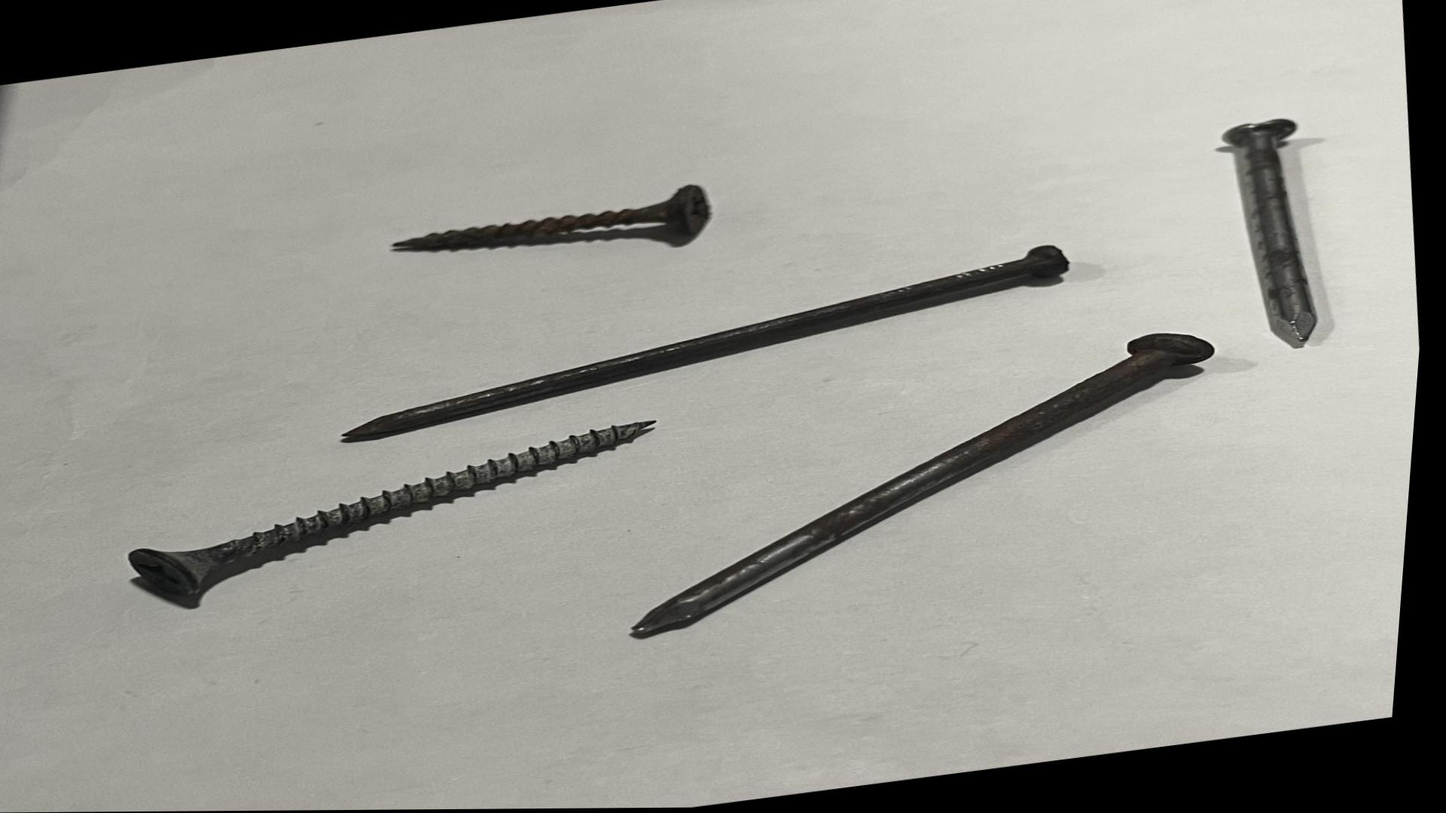nail: (556, 320, 1295, 660), (241, 213, 1112, 469), (1193, 100, 1373, 368)
screw: (102, 416, 677, 624), (359, 175, 734, 290)
